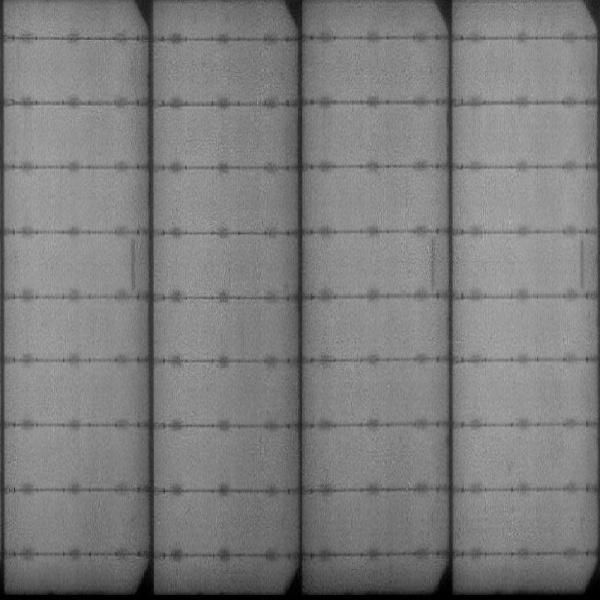scratch: (125, 237, 145, 297), (575, 237, 590, 295), (429, 239, 440, 293)
